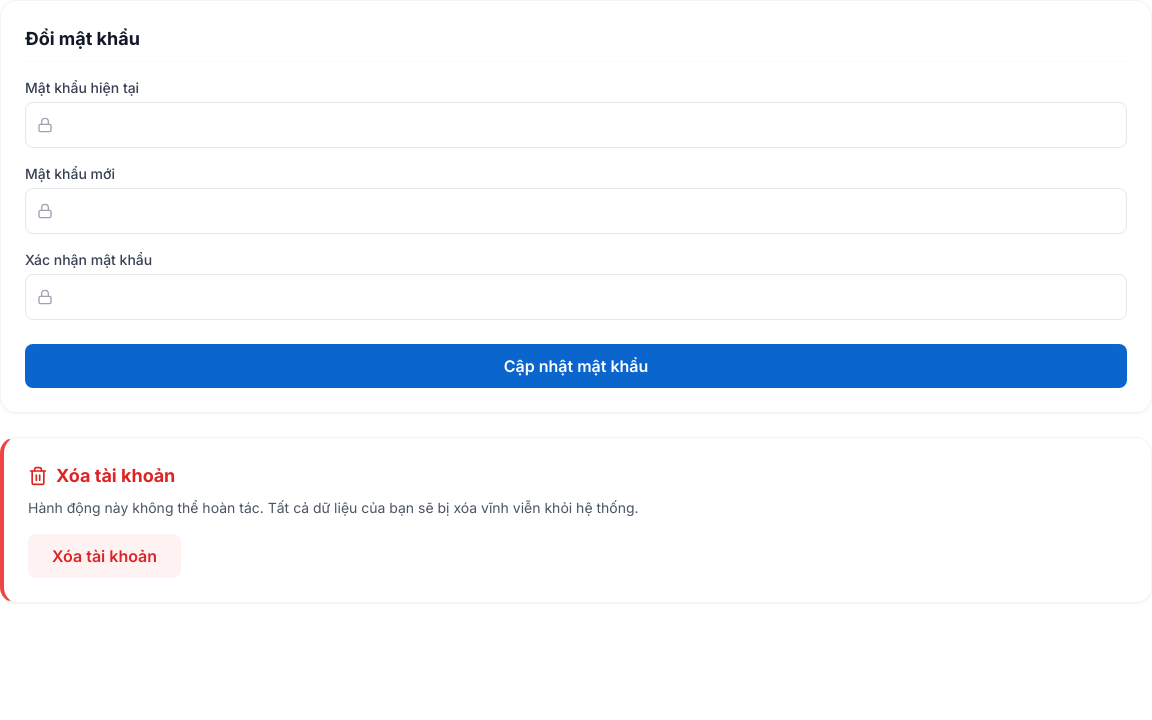
AccountSettings › shows unsupported message for change-password flow
Step 1. Type "old-pass" into the password field named "oldPassword" below "Mật khẩu hiện tại" → (576, 125), box x1=25 y1=102 x2=1127 y2=148
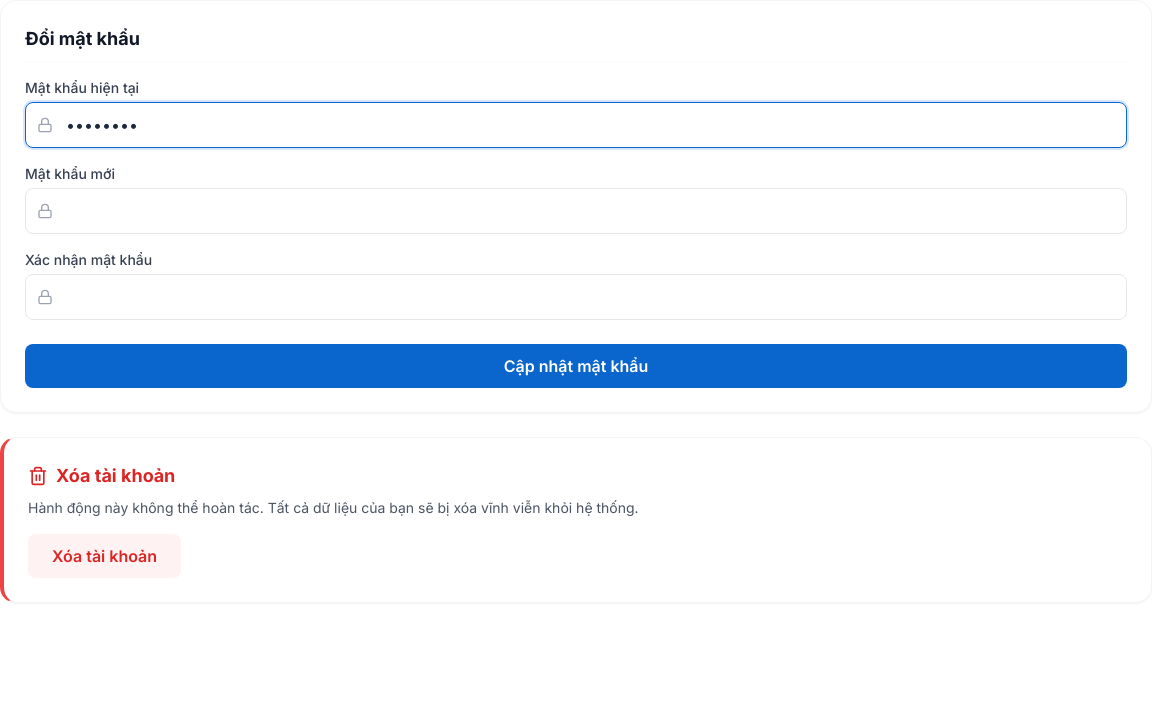
Step 2. Type "new-pass-123" into the password field named "newPassword" below "Mật khẩu mới" → (576, 211), box x1=25 y1=188 x2=1127 y2=234
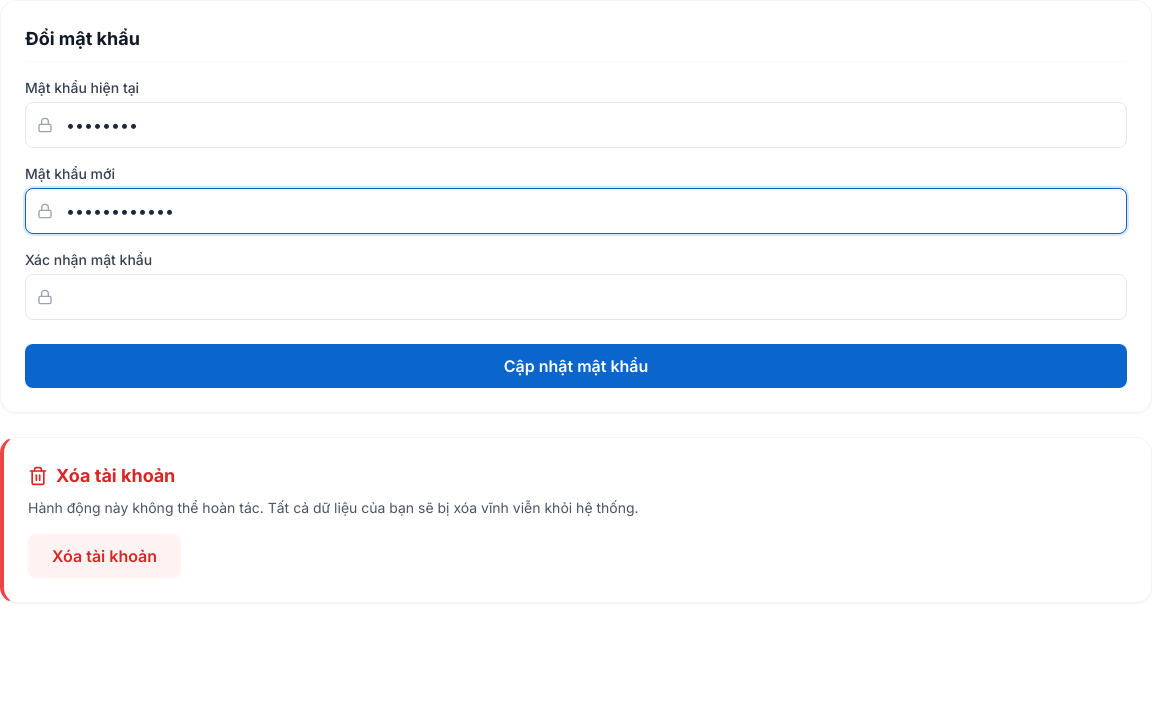
Step 3. Type "new-pass-123" into the password field named "confirmPassword" below "Xác nhận mật khẩu" → (576, 297), box x1=25 y1=274 x2=1127 y2=320
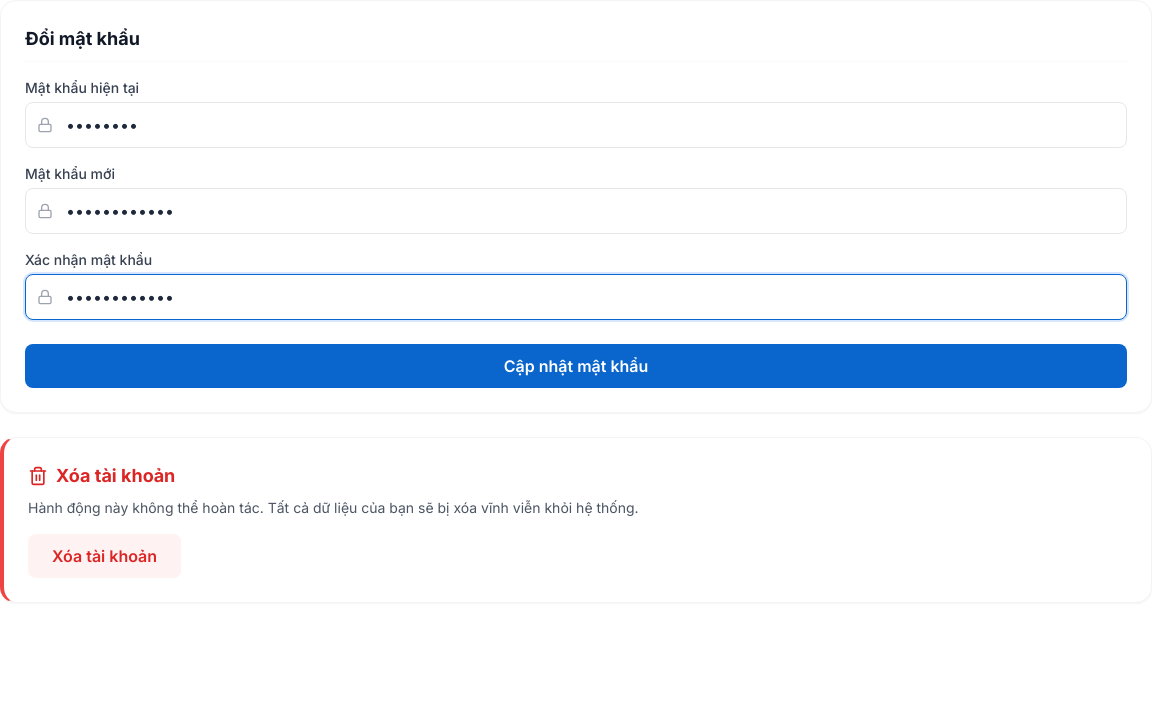
Step 4. Click the button "Cập nhật mật khẩu" → (576, 366), box x1=25 y1=344 x2=1127 y2=388
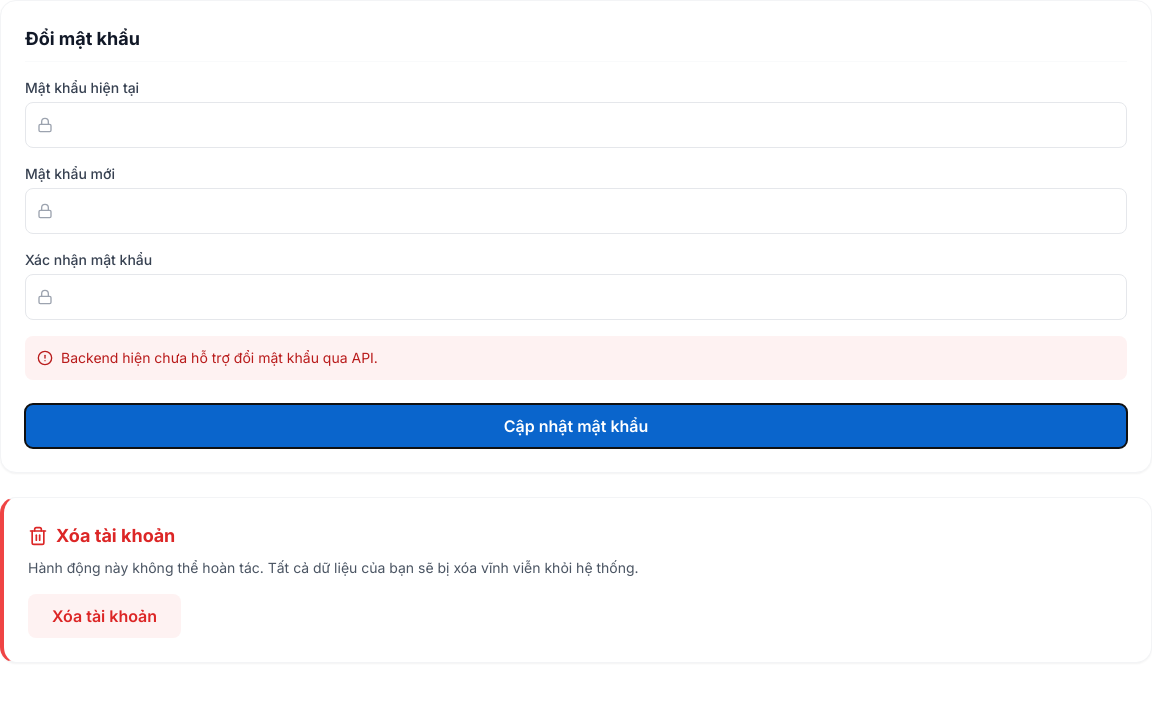
Now the text "Backend hiện chưa hỗ trợ đổi mật khẩu qua API." is shown, box x1=25 y1=336 x2=1127 y2=380
